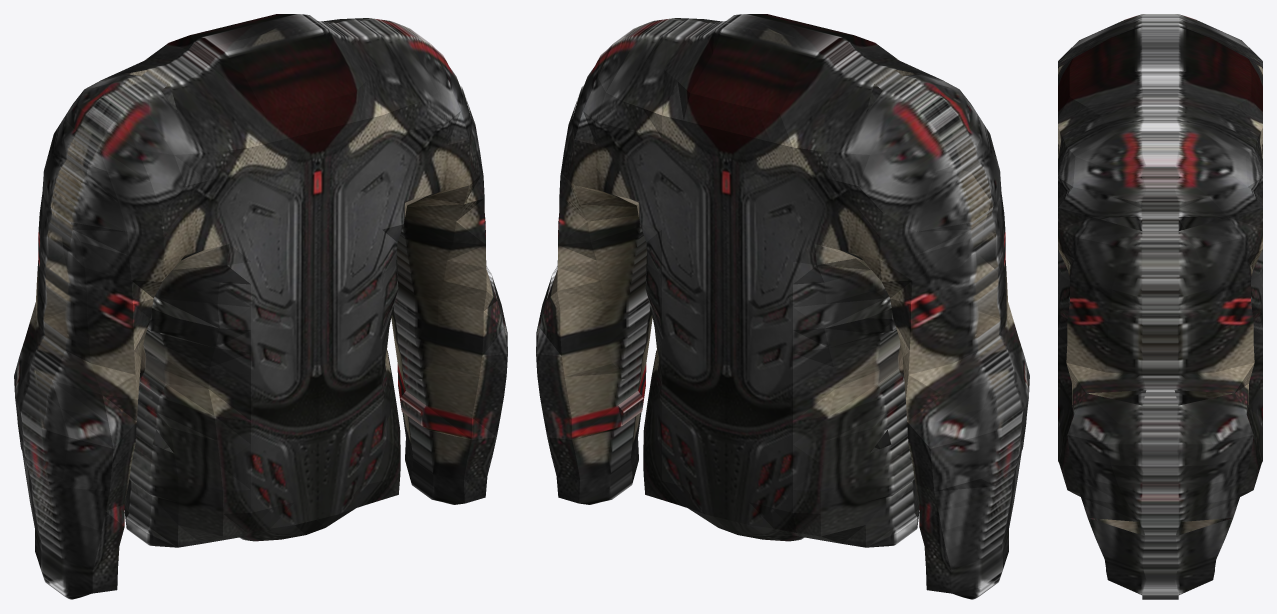
The model's file is randg-nomad-armored-shirt-171.glb.
3 views of the same model, side by side, from view 1: azimuth 30°, elevation 25°; view 2: azimuth 150°, elevation 25°; view 3: azimuth 270°, elevation 25° (orthographic). The views are drawn at different scales.
Parts seen in each view (by area): view 1: world; view 2: world; view 3: world.
Boxes of the visible parts, x1=… form: world: x1=14, y1=14, x2=507, y2=599; world: x1=536, y1=14, x2=1029, y2=599; world: x1=1058, y1=14, x2=1262, y2=599.
Bounding box in the file's own units: 0.9403 × 1 × 0.4.
Materials: 1 (1 with a texture image).
